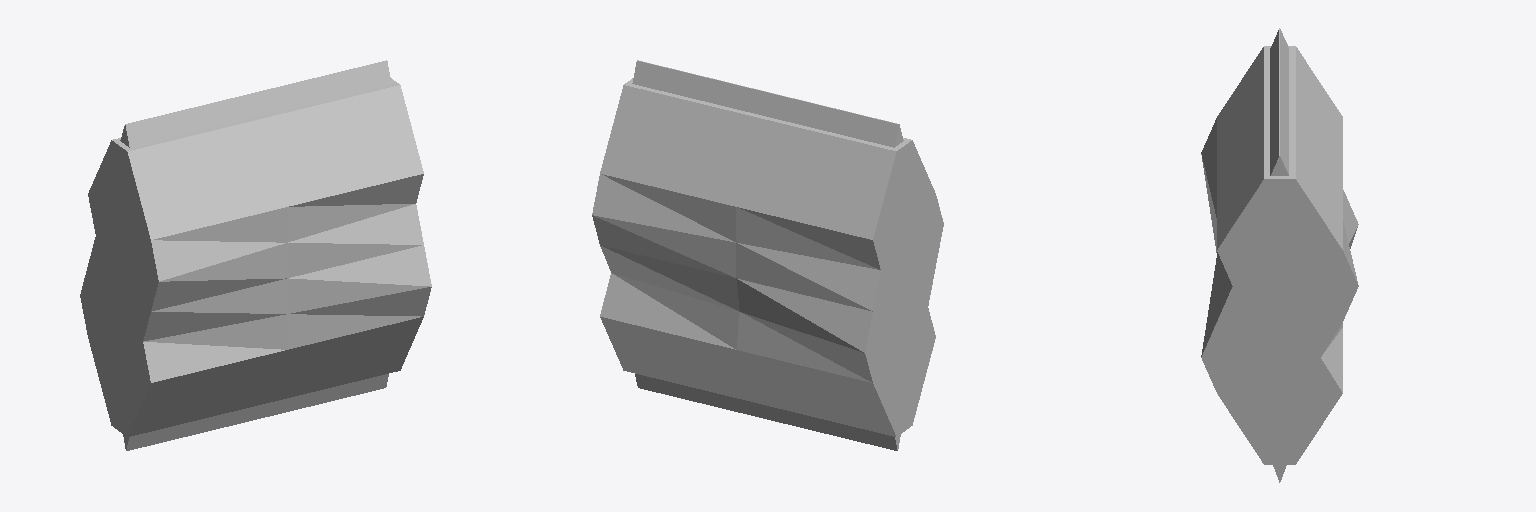
File: FrozenFood.obj
3 views of the same model, side by side, from view 1: azimuth 30°, elevation 25°; view 2: azimuth 150°, elevation 25°; view 3: azimuth 270°, elevation 25° (orthographic).
Parts seen in each view (by area): view 1: Cube; view 2: Cube; view 3: Cube.
Boxes of the visible parts, x1=… form: Cube: x1=80, y1=60, x2=431, y2=450; Cube: x1=592, y1=60, x2=943, y2=450; Cube: x1=1201, y1=28, x2=1358, y2=482.
Size of the model in its own units: 2 by 2.29 by 1.